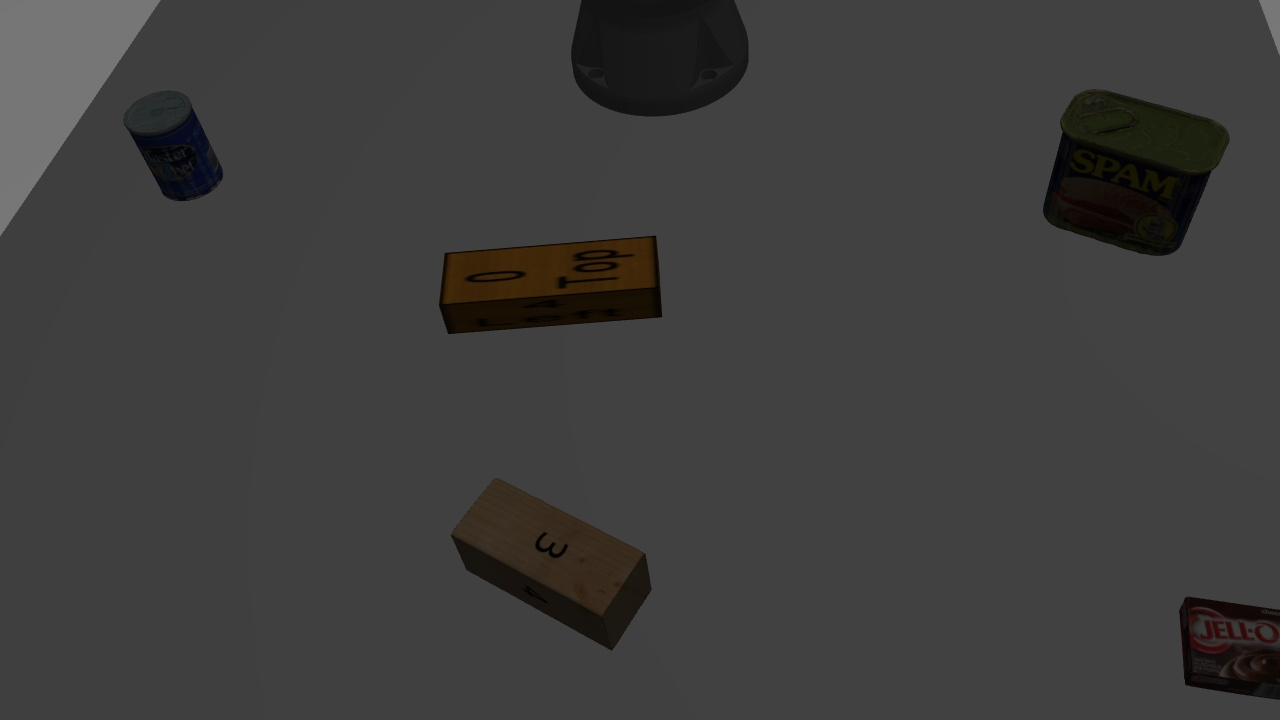jenga: (428, 222, 672, 327)
master_chef_can: (121, 81, 234, 207)
potted_meat_can: (1044, 80, 1208, 261)
pudding_box: (1173, 589, 1273, 700)
wood_block: (446, 470, 660, 646)
